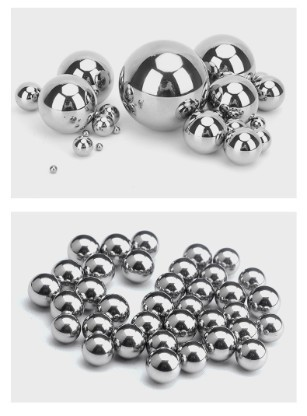ironball: (118, 38, 209, 131), (37, 73, 97, 133), (56, 49, 114, 104), (193, 33, 255, 83), (206, 73, 258, 123), (182, 108, 226, 154), (223, 126, 262, 165), (145, 346, 181, 383), (201, 325, 236, 361), (111, 322, 146, 358), (163, 307, 197, 344), (253, 74, 285, 111), (120, 248, 154, 282), (27, 272, 61, 306), (73, 275, 106, 310), (246, 284, 280, 317), (81, 332, 114, 365), (99, 232, 132, 265), (81, 252, 115, 284), (95, 292, 129, 324), (235, 337, 267, 370), (66, 233, 99, 265), (50, 258, 83, 290), (177, 339, 208, 373), (141, 290, 174, 320), (49, 289, 83, 318), (154, 271, 185, 302), (50, 312, 80, 343), (214, 280, 246, 309), (145, 328, 178, 355), (81, 311, 114, 338), (255, 312, 284, 342), (182, 242, 212, 271), (197, 307, 227, 336), (130, 310, 162, 337), (168, 256, 198, 284), (212, 246, 240, 275), (185, 277, 214, 305), (14, 81, 41, 111), (228, 316, 258, 343), (131, 229, 159, 257), (237, 266, 266, 292), (174, 293, 203, 318), (199, 262, 227, 287), (221, 300, 249, 325), (91, 113, 114, 136), (97, 103, 120, 124), (252, 127, 271, 152), (72, 134, 93, 156), (225, 117, 246, 132), (247, 113, 266, 129), (49, 164, 57, 173), (95, 142, 103, 150), (112, 125, 120, 133), (82, 129, 89, 136)
